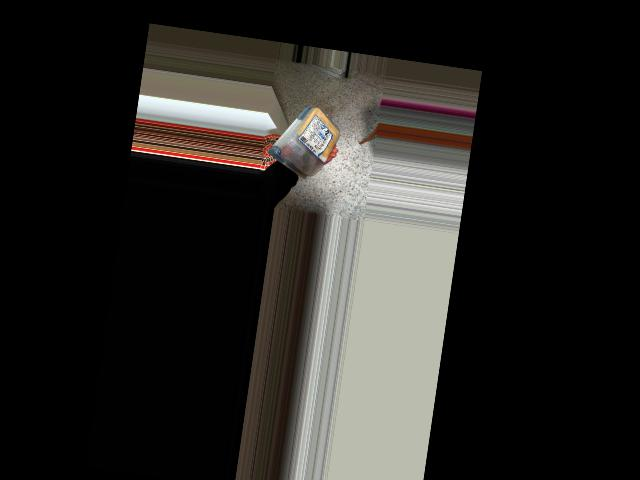cheese: (270, 97, 344, 182)
